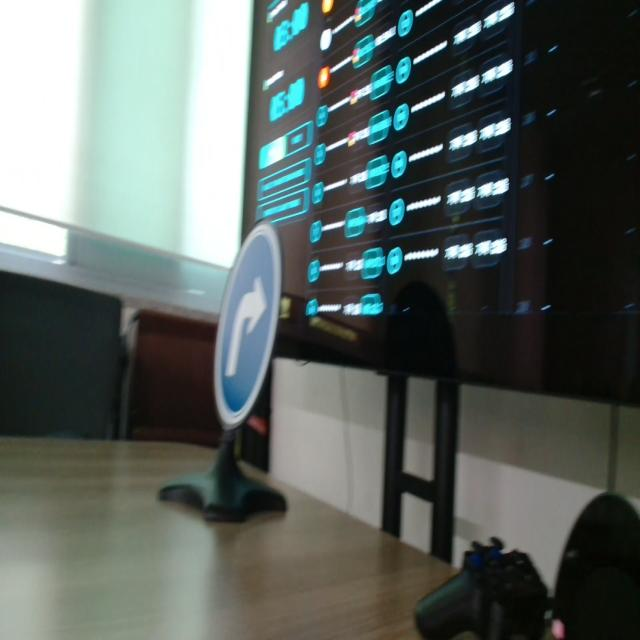right_dierection: (208, 220, 284, 427)
